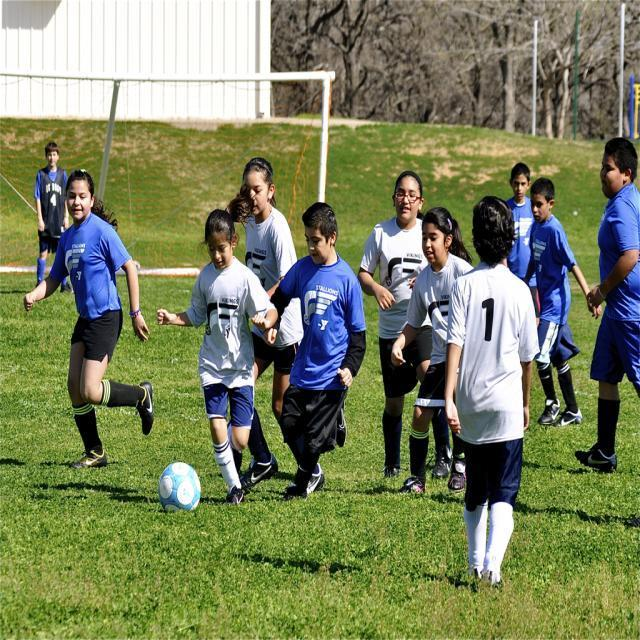football: (148, 459, 211, 521)
